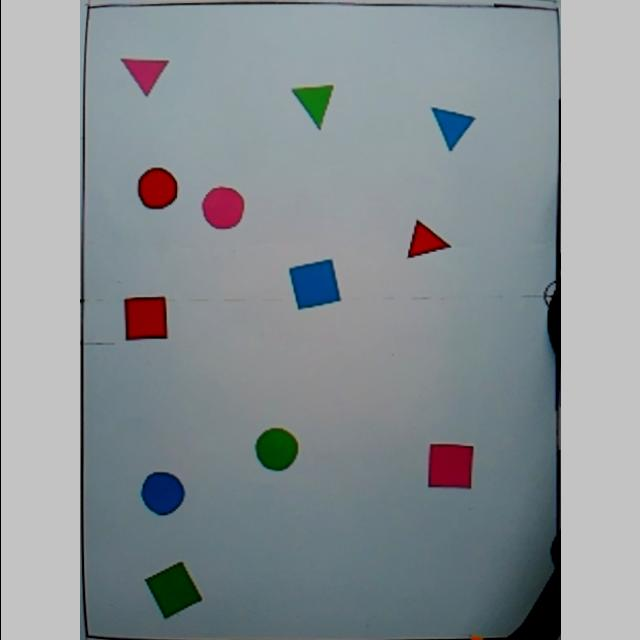blueCircle: (140, 470, 188, 518)
blueSquare: (286, 258, 344, 312)
blueTriangle: (432, 106, 478, 150)
greenCircle: (254, 424, 300, 474)
greenSquare: (142, 560, 204, 620)
greenTriangle: (288, 83, 336, 131)
pinkCircle: (200, 185, 248, 232)
pinkSquare: (426, 442, 476, 492)
pinkTriangle: (116, 56, 172, 98)
redCircle: (135, 166, 179, 210)
redSquare: (122, 294, 170, 344)
redTriangle: (404, 218, 452, 266)
